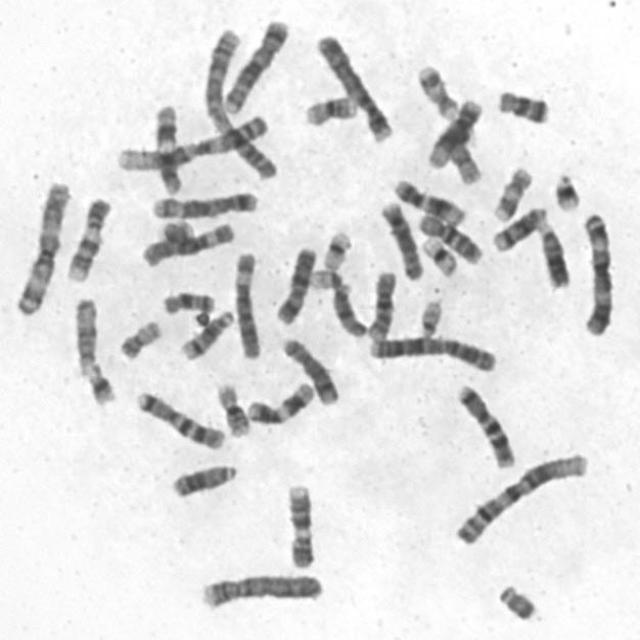A1: (447, 445, 592, 548), (109, 107, 272, 173)
A2: (196, 20, 280, 181), (361, 328, 500, 374)
A3: (8, 174, 73, 317), (574, 205, 616, 338)
B4: (310, 25, 396, 144), (193, 564, 325, 610)
B5: (218, 12, 291, 114), (145, 184, 260, 220)
C10: (412, 206, 485, 266), (361, 263, 399, 341)
C11: (241, 375, 317, 426), (148, 96, 186, 195)
C12: (420, 91, 485, 170), (386, 172, 468, 226)
C6: (134, 215, 237, 268), (226, 245, 265, 361)
C7: (129, 384, 227, 452), (450, 377, 517, 470)
C8: (274, 330, 341, 406), (373, 194, 425, 282)
C9: (60, 189, 114, 284), (278, 476, 317, 570)
D13: (165, 456, 240, 500), (530, 215, 572, 290)
D14: (173, 303, 236, 361), (486, 199, 549, 254)
D15: (66, 290, 102, 375), (326, 278, 368, 340)
E16: (210, 375, 252, 438), (296, 87, 359, 128)
E17: (486, 158, 534, 223), (411, 58, 461, 120)
E18: (491, 81, 552, 126), (155, 283, 217, 316)
F19: (415, 230, 460, 278), (315, 222, 355, 271)
F20: (112, 313, 164, 362), (450, 140, 483, 186)
G21: (78, 356, 118, 408), (547, 164, 583, 212)
G22: (412, 292, 445, 340), (304, 263, 344, 292)
X: (268, 239, 318, 327)
Y: (491, 576, 539, 622)
